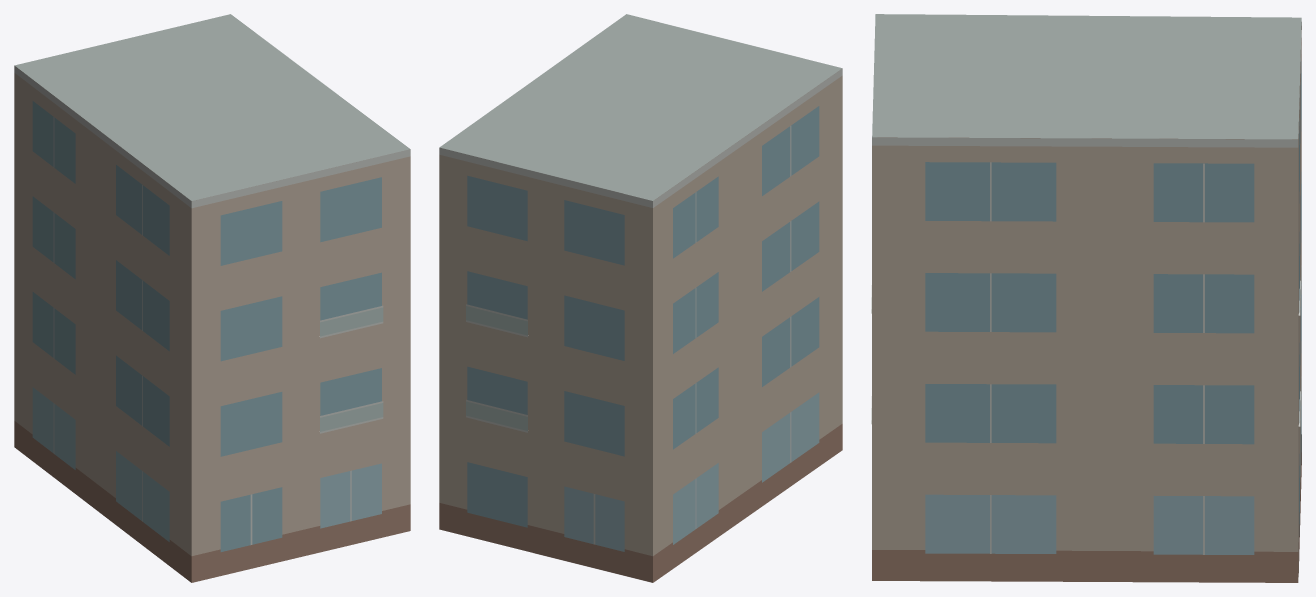
The model's file is survey-upis-32833652.glb.
3 renders of one model, left to right at view 1: azimuth 30°, elevation 25°; view 2: azimuth 150°, elevation 25°; view 3: azimuth 270°, elevation 25°, orthographic. The views are drawn at different scales.
Parts seen in each view (by area): view 1: survey-upis-32833652.tmp; view 2: survey-upis-32833652.tmp; view 3: survey-upis-32833652.tmp.
Part boxes in pixels (left/top/right/bottom): survey-upis-32833652.tmp: left=14, top=14, right=410, bottom=582; survey-upis-32833652.tmp: left=439, top=14, right=842, bottom=582; survey-upis-32833652.tmp: left=871, top=14, right=1301, bottom=582.
Bounding box in the file's own units: 7.89 × 13 × 11.45.
